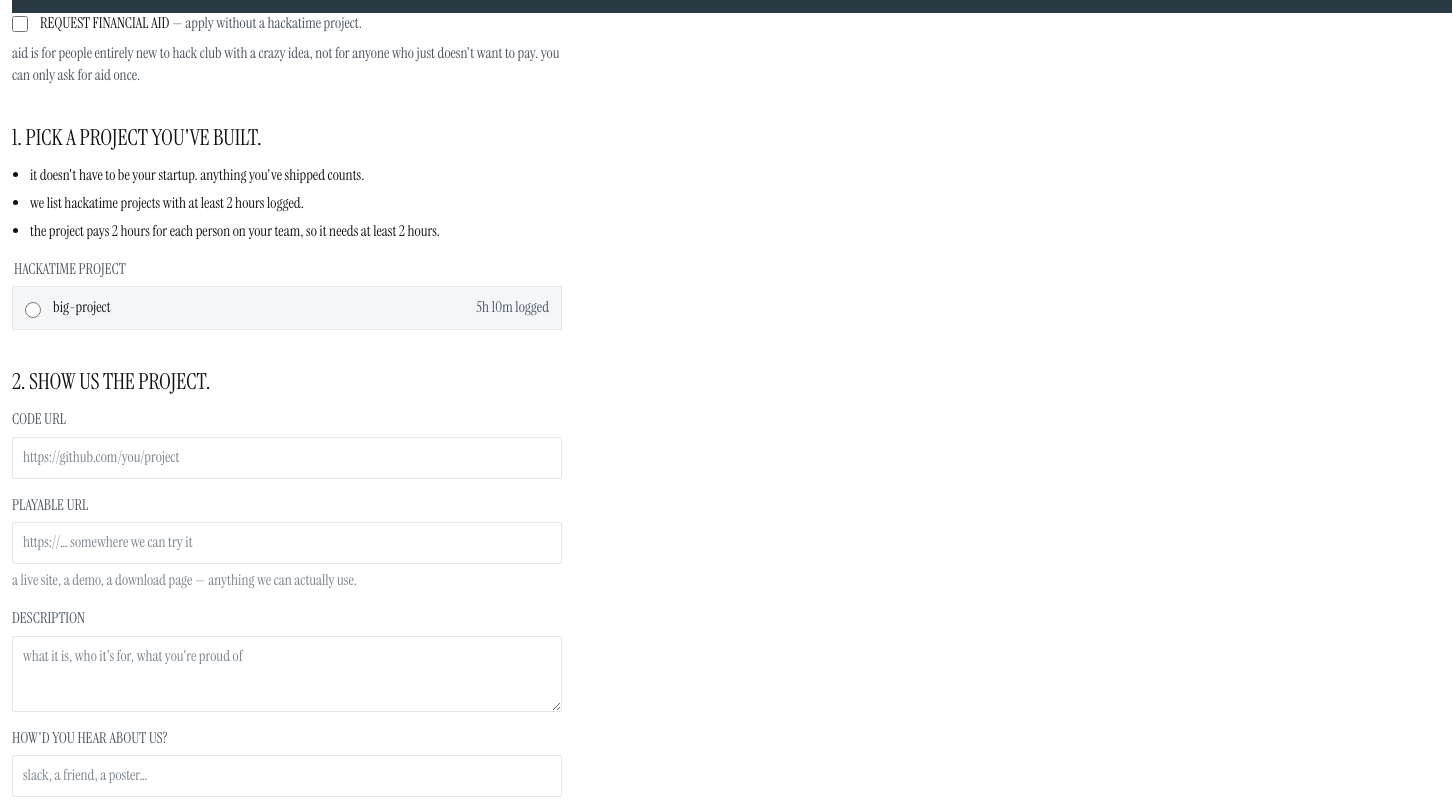
it: ApplyForm — still missing › switches to the aid steps and counts unchecked acknowledgements
The width and height of the screenshot is (1452, 810).
Step 1. Click the checkbox labelled "Request financial aid — apply without a hackatime project." → (20, 24), box [12,16,28,32]
(page scrolled)
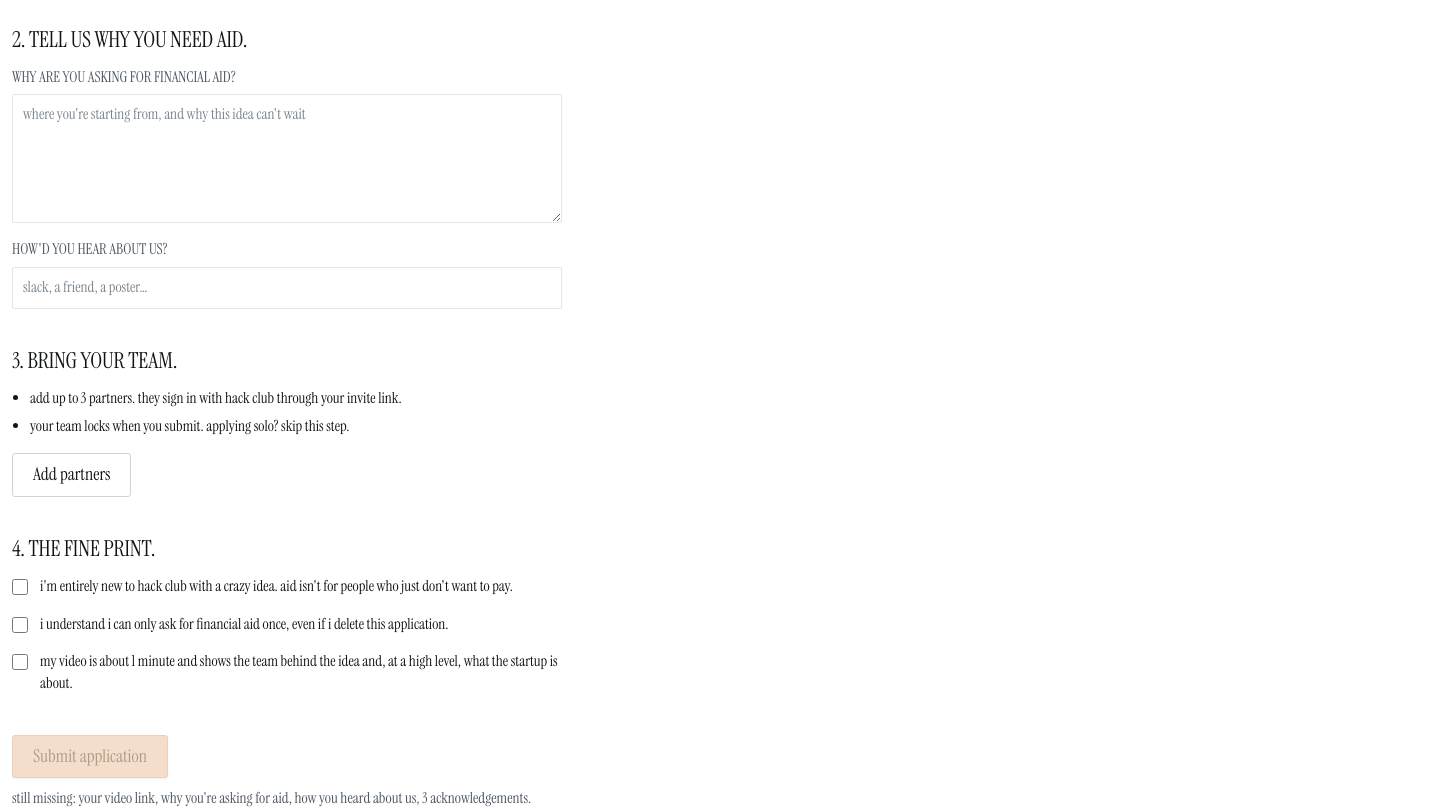
expect the button "Submit application" is disabled: met, box [12,735,168,778]
expect the label labelled "Code URL" is gone: met
expect the text with test id "still-missing" shows "3 acknowledgements": met, box [79,788,528,808]
Step 2. Click the checkbox labelled "entirely new to hack club" → (20, 587), box [12,579,28,595]
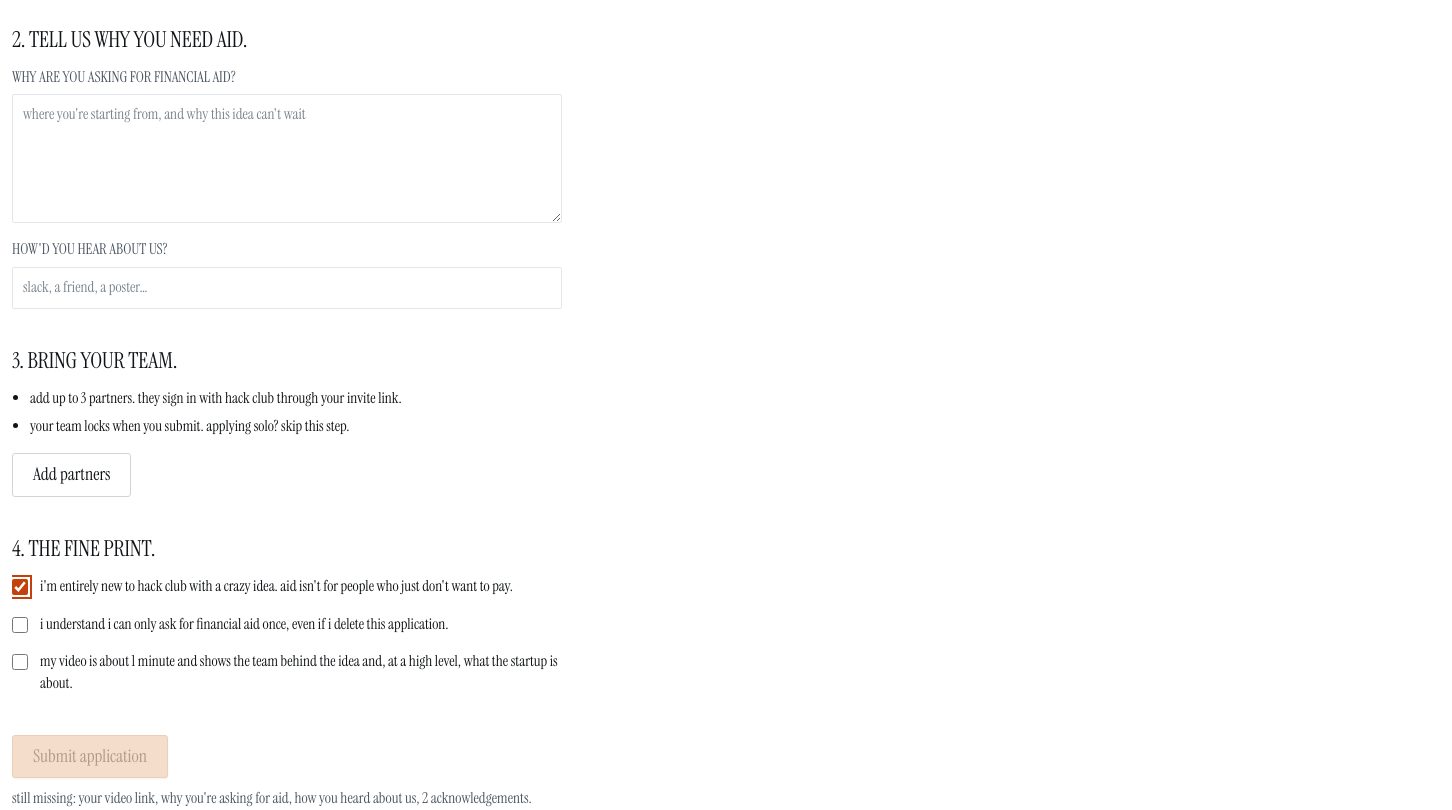
expect the text with test id "still-missing" shows "2 acknowledgements": met, box [79,788,528,808]
